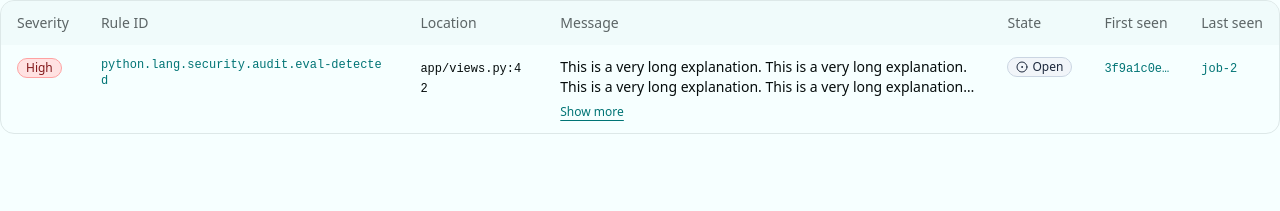
it: FindingsTable › cuts a long message short, and shows all of it on request
The width and height of the screenshot is (1280, 211).
Click the button "Show more". click: click(592, 112)
box: [560,104,624,120]
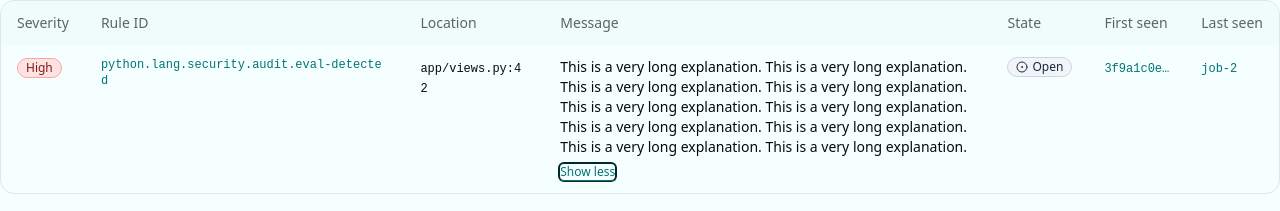
Expected: the button "Show less" is expanded, [560,164,615,180]
